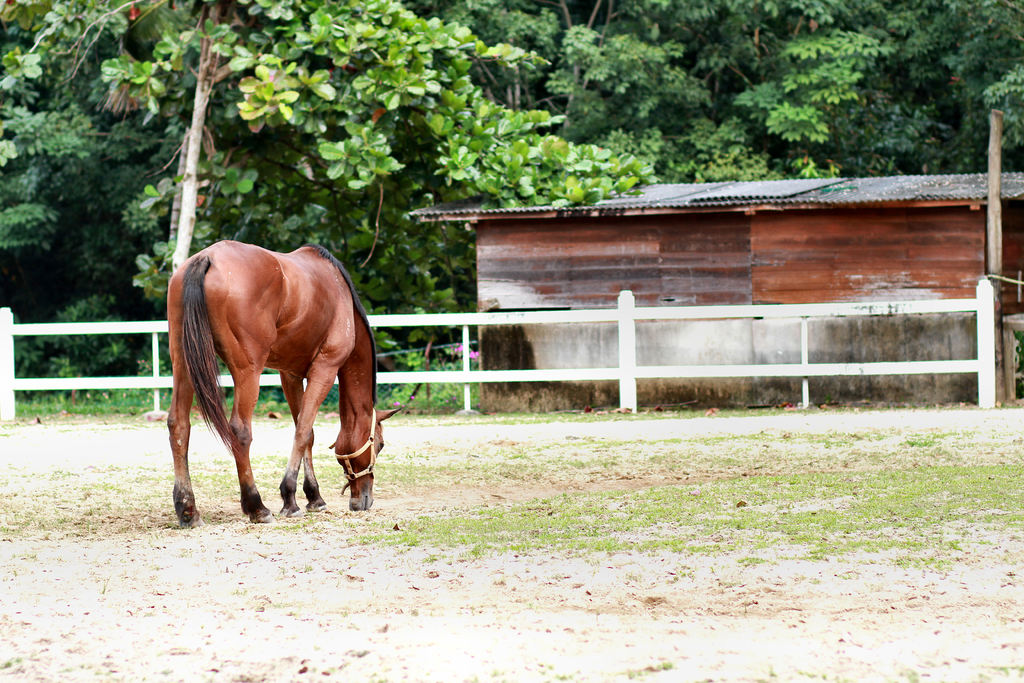horse: (161, 234, 397, 528)
